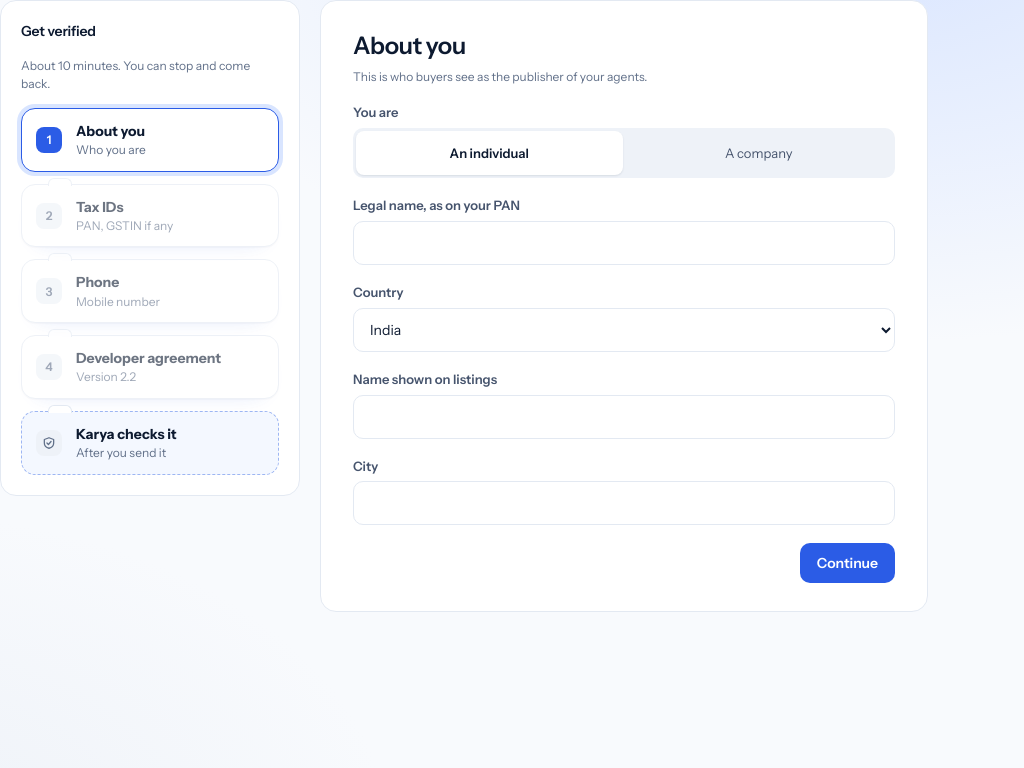
Test case: saves About you with a company type and moves on to Tax IDs
Click the button "A company": (759, 153) x1=626 y1=131 x2=892 y2=175
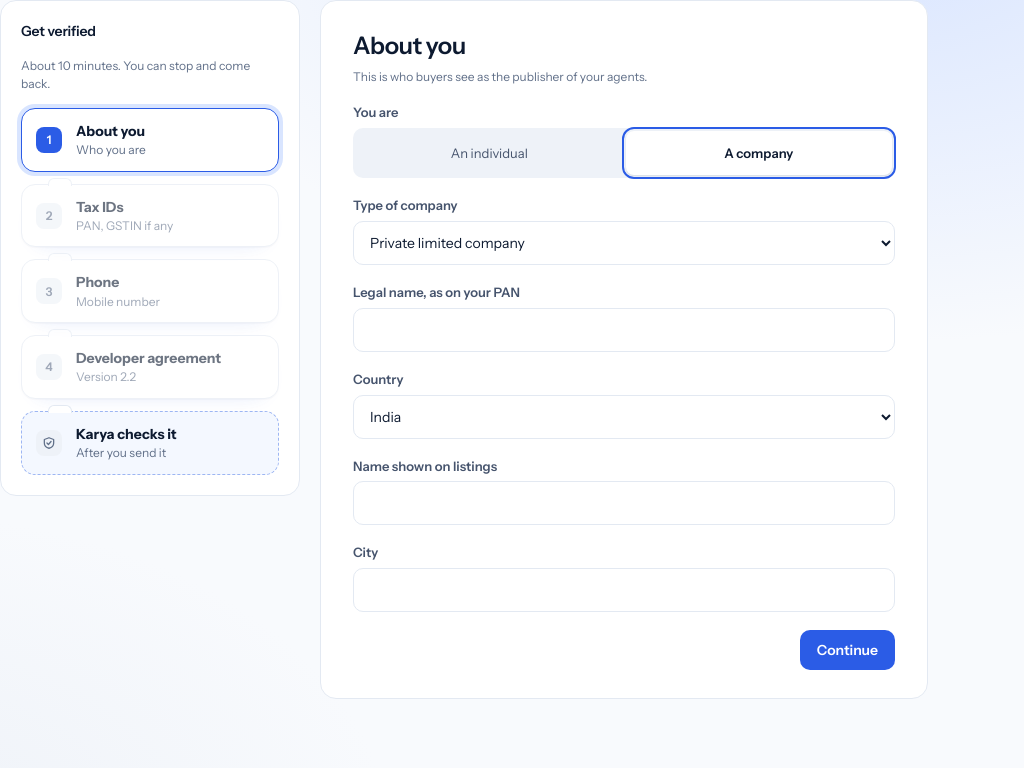
Select "LLP" in the dropdown labelled "Type of company": (624, 243) x1=353 y1=221 x2=895 y2=265
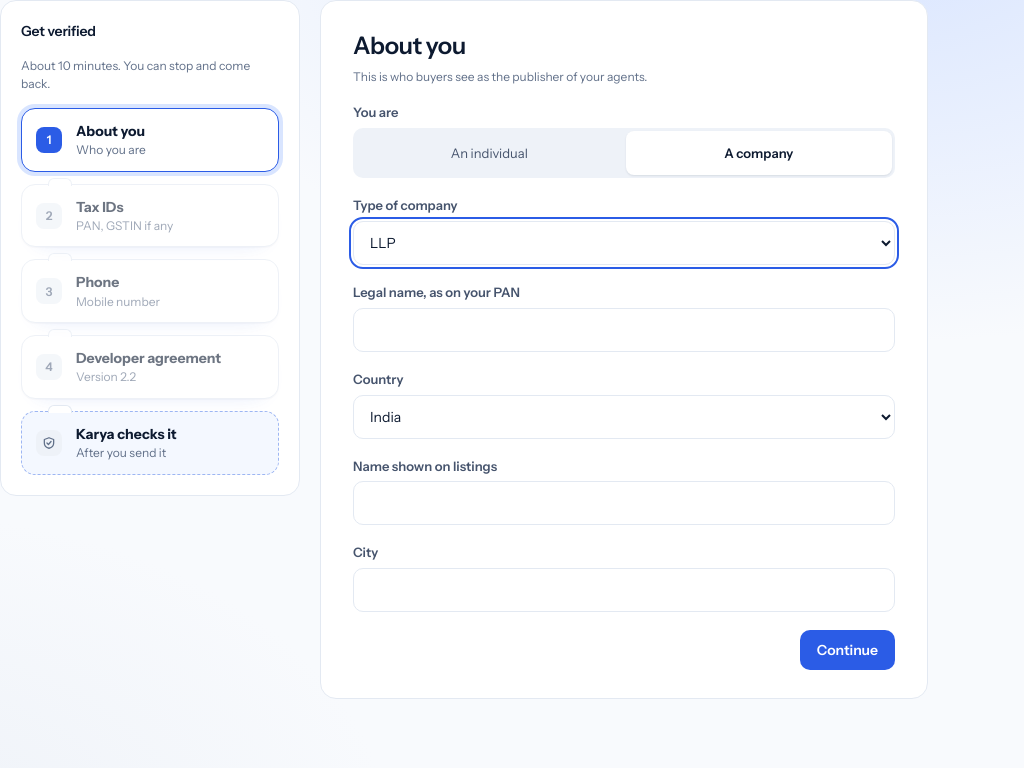
In the field labelled "Legal name, as on your PAN": (624, 330) x1=353 y1=308 x2=895 y2=352, type "Asha LLP"
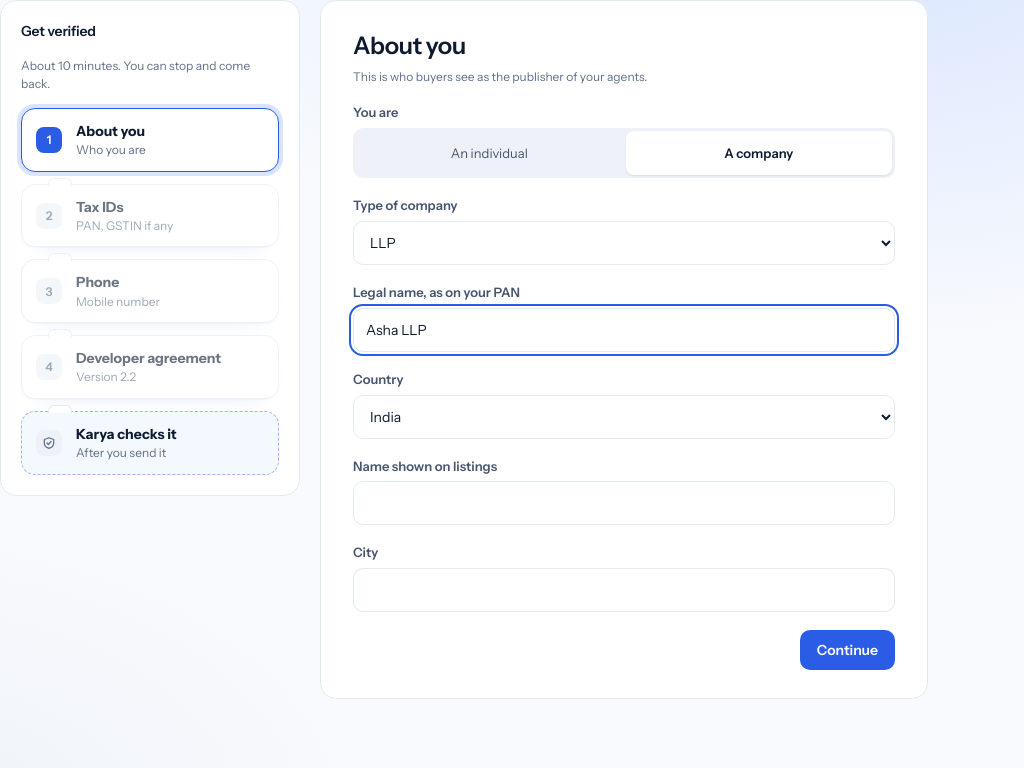
In the field labelled "Name shown on listings": (624, 503) x1=353 y1=481 x2=895 y2=525, type "Asha"
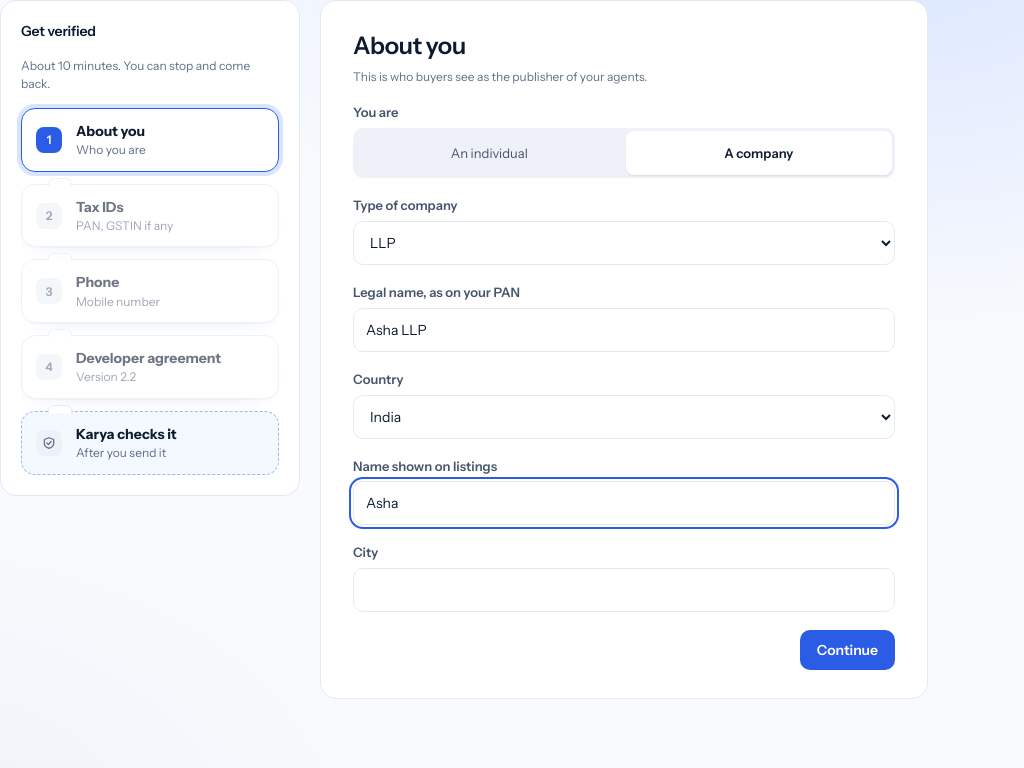
In the field labelled "City": (624, 590) x1=353 y1=568 x2=895 y2=612, type "Pune"
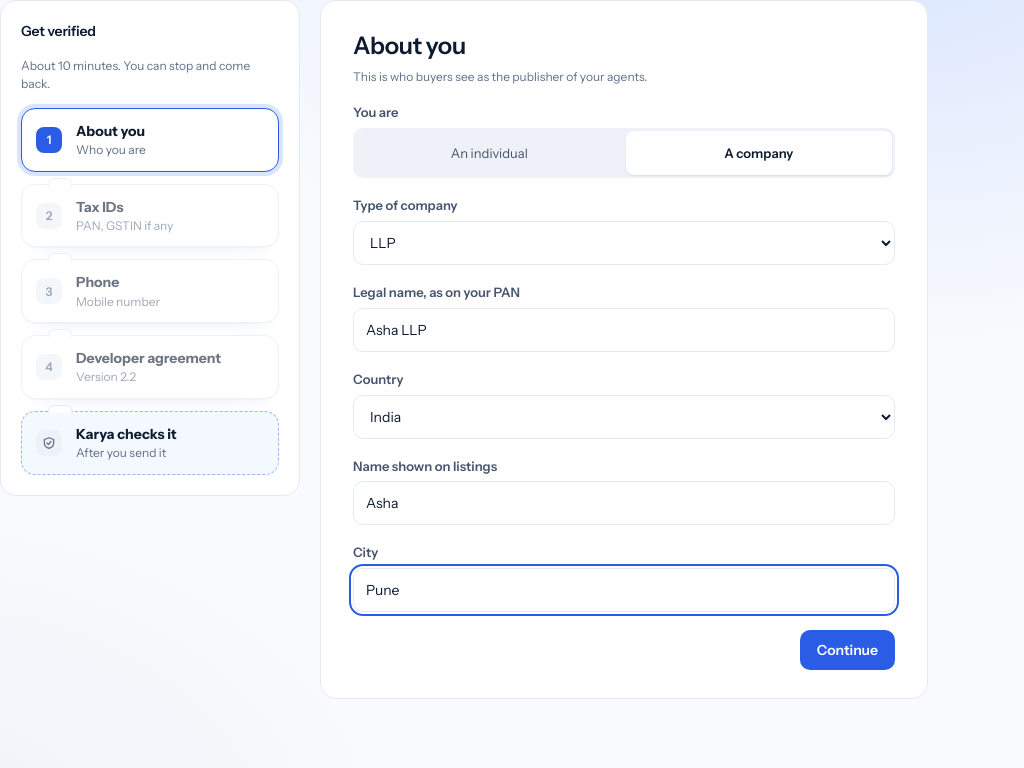
Click the button "Continue": (847, 650) x1=800 y1=630 x2=895 y2=670
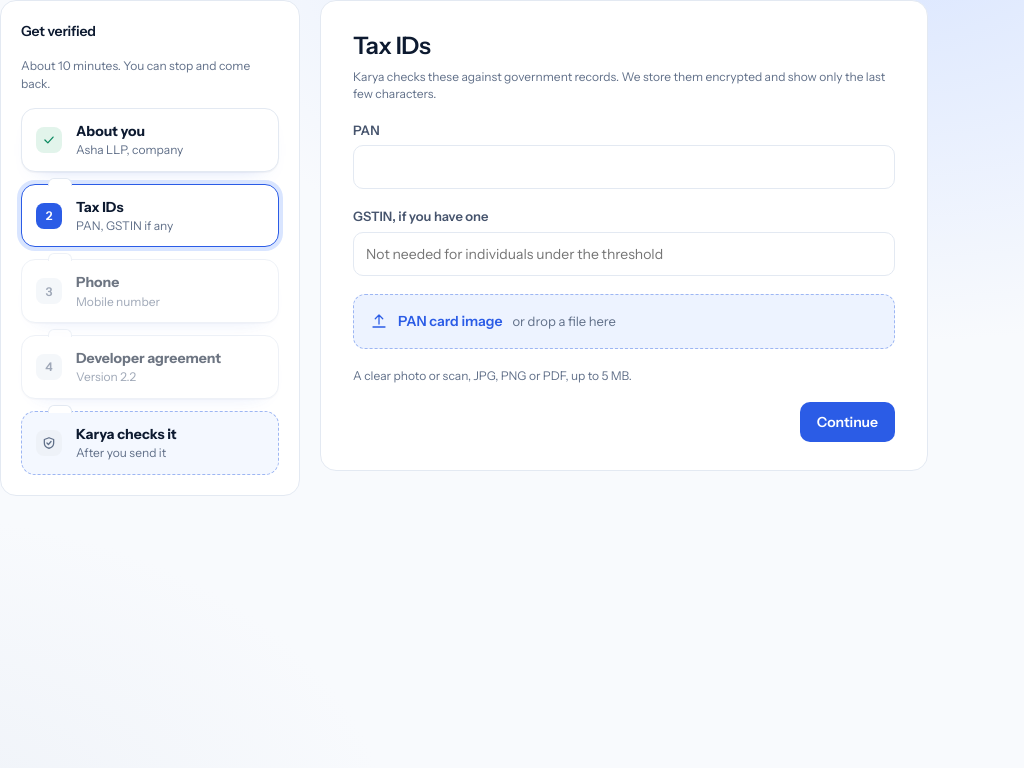
Check: the heading "Tax IDs" is shown, box x1=353 y1=31 x2=430 y2=60
